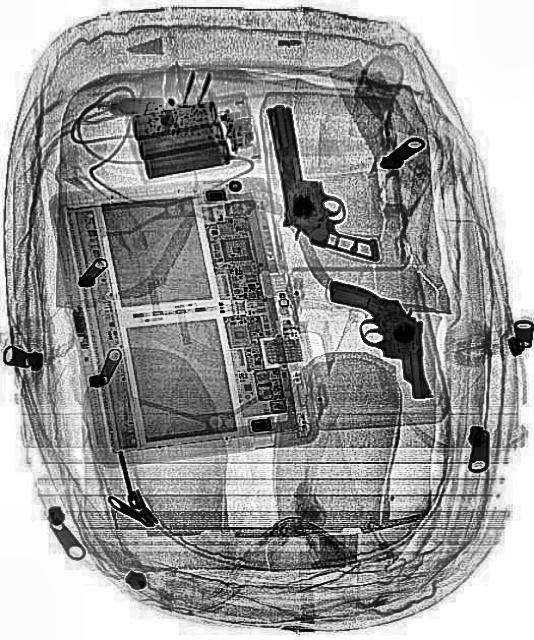Gun: (264, 88, 380, 280), (327, 270, 429, 408)
